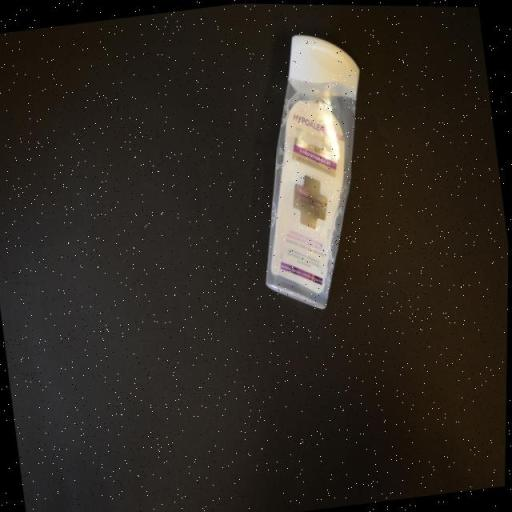plastic: (230, 21, 397, 322)
